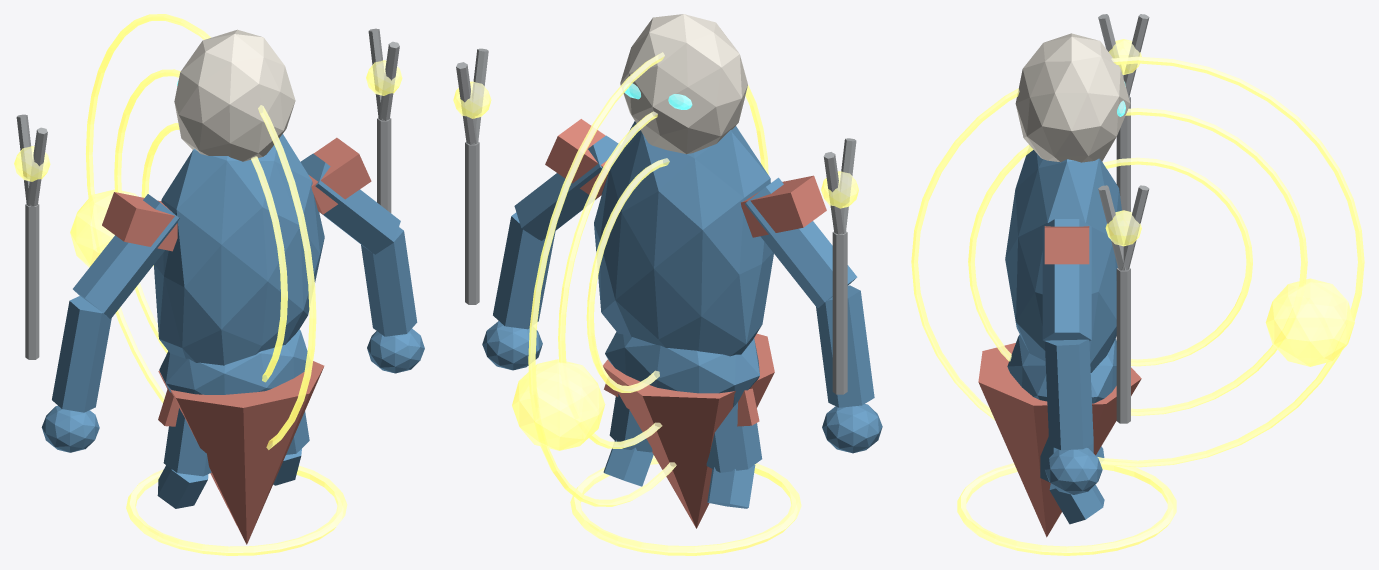
File: boss_06_resonance_maestro.glb
The picture shows the model from 3 angles, left to right: view 1: azimuth 30°, elevation 25°; view 2: azimuth 150°, elevation 25°; view 3: azimuth 270°, elevation 25°; orthographic projection. The views are drawn at different scales.
Visible parts, largest first — view 1: resonance_maestro_hovering_body_torso, resonance_maestro_hovering_body_head, resonance_maestro_hovering_robe_tail, resonance_maestro_visible_bass_wave_ring_2, resonance_maestro_hovering_body_pelvis, resonance_maestro_hovering_body_forearm_-1, resonance_maestro_hovering_body_upper_arm_-1, resonance_maestro_hovering_body_forearm_1, resonance_maestro_hover_ring, resonance_maestro_hovering_body_upper_arm_1, resonance_maestro_visible_bass_wave_ring_1, resonance_maestro_shoulder_festival_plate_-1 (+17 smaller); view 2: resonance_maestro_hovering_body_torso, resonance_maestro_hovering_body_head, resonance_maestro_hovering_robe_tail, resonance_maestro_bounceable_bass_trap_sphere, resonance_maestro_hovering_body_pelvis, resonance_maestro_visible_bass_wave_ring_2, resonance_maestro_hovering_body_upper_arm_-1, resonance_maestro_hovering_body_forearm_1, resonance_maestro_hovering_body_forearm_-1, resonance_maestro_hover_ring, resonance_maestro_hovering_body_upper_arm_1, resonance_maestro_visible_bass_wave_ring_1 (+18 smaller); view 3: resonance_maestro_hovering_body_torso, resonance_maestro_hovering_body_head, resonance_maestro_visible_bass_wave_ring_2, resonance_maestro_hovering_robe_tail, resonance_maestro_bounceable_bass_trap_sphere, resonance_maestro_visible_bass_wave_ring_1, resonance_maestro_hovering_body_forearm_1, resonance_maestro_hovering_body_upper_arm_1, resonance_maestro_hover_ring, resonance_maestro_visible_bass_wave_ring_0, resonance_maestro_hovering_body_pelvis, resonance_maestro_tuning_fork_handle_1 (+9 smaller).
Boxes of the visible parts, x1,y1,x2,y2 form: resonance_maestro_hovering_body_torso: (154,134,324,365); resonance_maestro_hovering_body_head: (174,29,295,161); resonance_maestro_hovering_robe_tail: (158,361,324,544); resonance_maestro_visible_bass_wave_ring_2: (86,14,316,449); resonance_maestro_hovering_body_pelvis: (159,329,307,394); resonance_maestro_hovering_body_forearm_-1: (52,296,111,412); resonance_maestro_hovering_body_upper_arm_-1: (73,194,179,318); resonance_maestro_hovering_body_forearm_1: (361,227,417,336); resonance_maestro_hover_ring: (126,465,347,555); resonance_maestro_hovering_body_upper_arm_1: (300,153,400,254); resonance_maestro_visible_bass_wave_ring_1: (114,69,287,382); resonance_maestro_shoulder_festival_plate_-1: (102,192,177,251); resonance_maestro_hovering_body_torso: (594,121,773,356); resonance_maestro_hovering_body_head: (620,14,747,154); resonance_maestro_hovering_robe_tail: (603,333,774,528); resonance_maestro_bounceable_bass_trap_sphere: (512,359,605,450); resonance_maestro_hovering_body_pelvis: (605,332,759,406); resonance_maestro_visible_bass_wave_ring_2: (528,52,768,506); resonance_maestro_hovering_body_upper_arm_-1: (745,177,857,307); resonance_maestro_hovering_body_forearm_1: (493,212,555,329); resonance_maestro_hovering_body_forearm_-1: (816,285,874,407); resonance_maestro_hover_ring: (570,455,801,555); resonance_maestro_hovering_body_upper_arm_1: (514,135,618,240); resonance_maestro_visible_bass_wave_ring_1: (558,111,662,448); resonance_maestro_hovering_body_torso: (1005,150,1121,372); resonance_maestro_hovering_body_head: (1015,33,1130,162); resonance_maestro_visible_bass_wave_ring_2: (911,56,1364,467); resonance_maestro_hovering_robe_tail: (978,343,1141,537); resonance_maestro_bounceable_bass_trap_sphere: (1265,278,1354,366); resonance_maestro_visible_bass_wave_ring_1: (968,108,1307,415); resonance_maestro_hovering_body_forearm_1: (1044,339,1093,450); resonance_maestro_hovering_body_upper_arm_1: (1042,219,1091,340); resonance_maestro_hover_ring: (957,463,1176,555); resonance_maestro_visible_bass_wave_ring_0: (1103,157,1252,366); resonance_maestro_hovering_body_pelvis: (1007,334,1116,403); resonance_maestro_tuning_fork_handle_1: (1116,268,1130,423).
Bounding box in the file's own units: 2.18 × 2.73 × 2.24.
